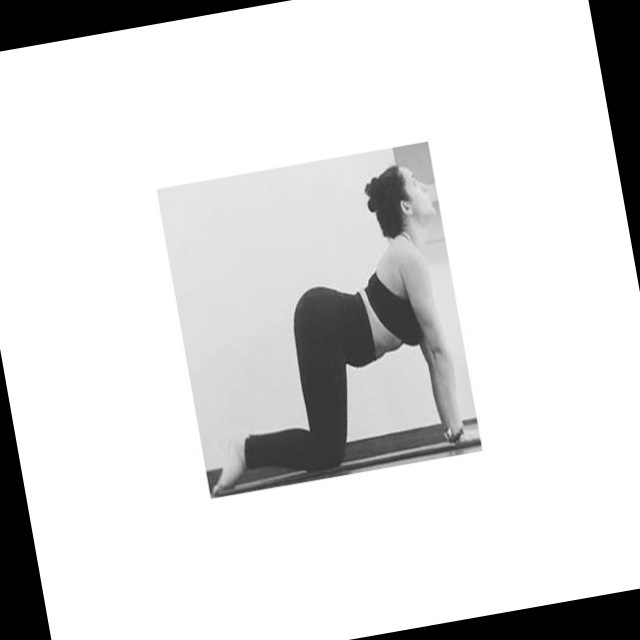Cow_Pose: (210, 168, 483, 494)
